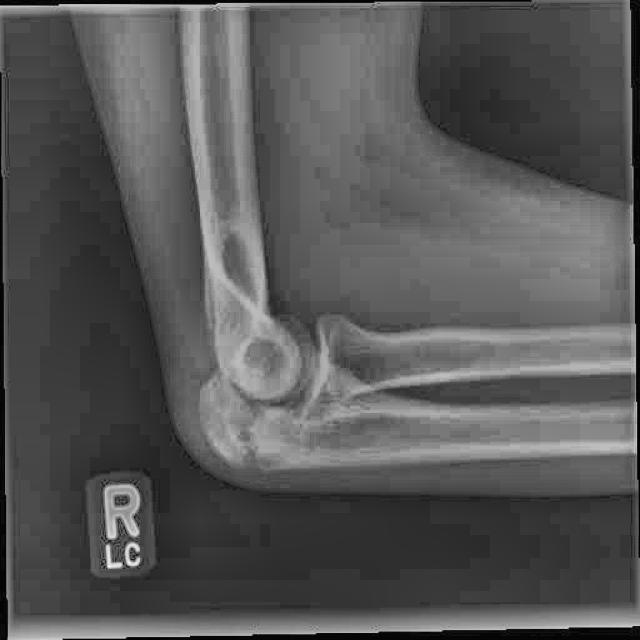elbow positive: (181, 365, 306, 483)
